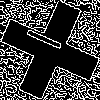I: (25, 25, 72, 57)
